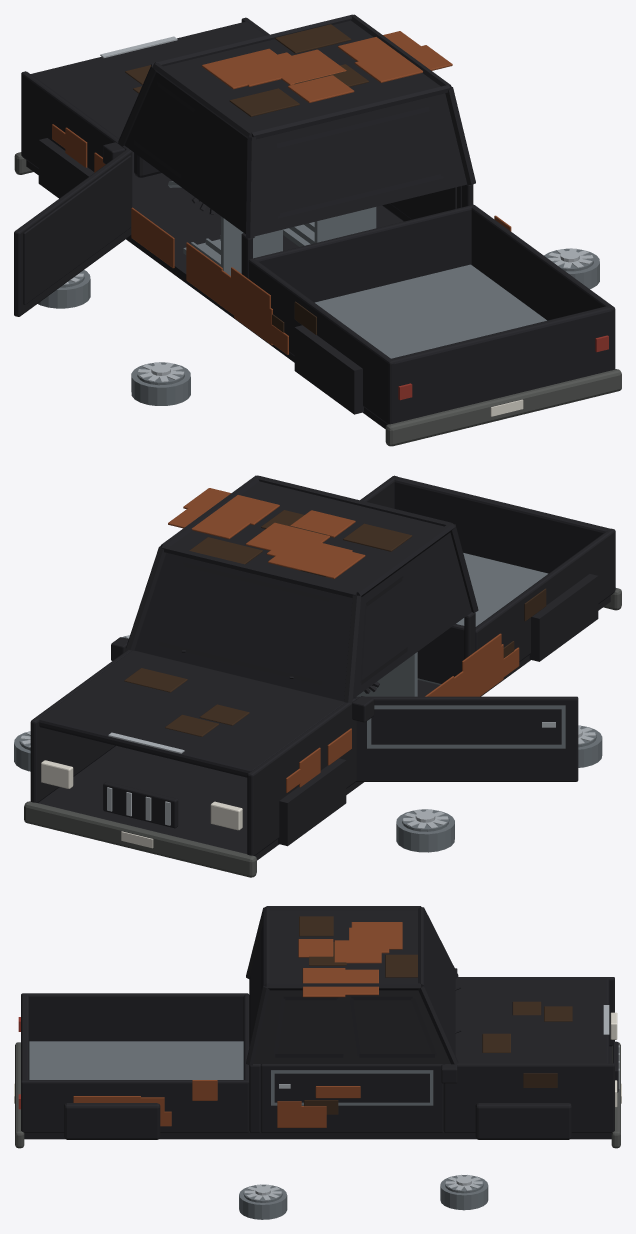
The model's file is car_jam_pickup_burnt.glb.
The picture shows the model from 3 angles, top to bottom: view 1: azimuth 30°, elevation 25°; view 2: azimuth 150°, elevation 25°; view 3: azimuth 270°, elevation 25°; orthographic projection. The views are drawn at different scales.
Parts seen in each view (by area): view 1: car_jam_pickup_burnt; view 2: car_jam_pickup_burnt; view 3: car_jam_pickup_burnt.
Part boxes in pixels (x1,y1,x2,y2): car_jam_pickup_burnt: (14,14,621,446); car_jam_pickup_burnt: (14,475,621,877); car_jam_pickup_burnt: (14,906,621,1219).
Size of what is drawn, in the model's own units: 4.27 by 1.73 by 5.32.
2 materials, 2 textured.
